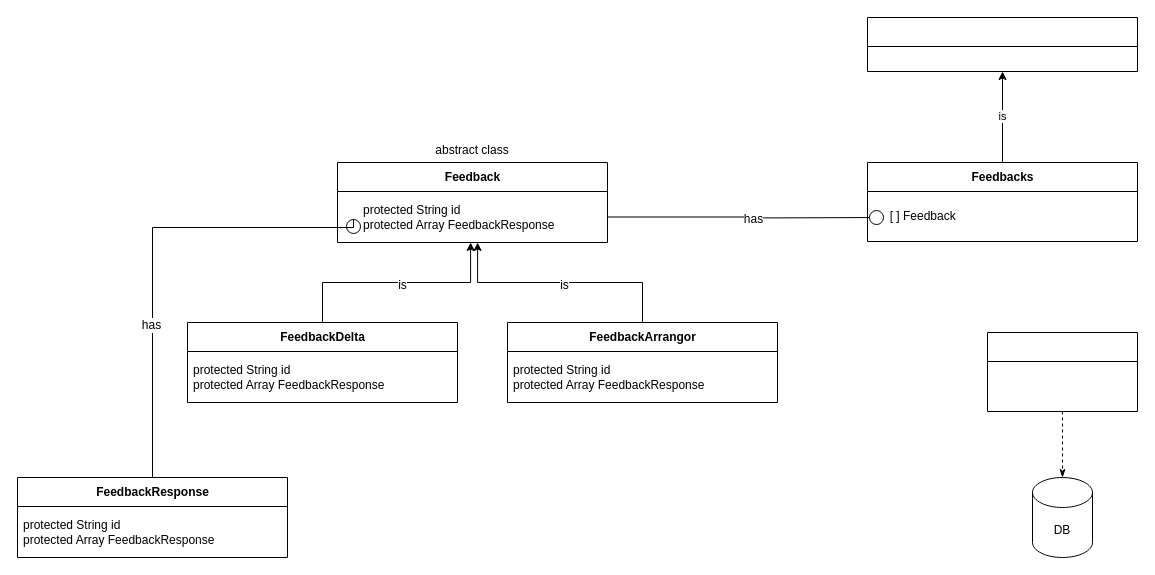
Some shapes in this 1155 by 575 pixel diagram are drawn without their labels. Each missing label, with the box of its shape:
Collection ( UKMNorge\ Collection): (866, 16, 1138, 72)
Write: (986, 332, 1138, 412)
